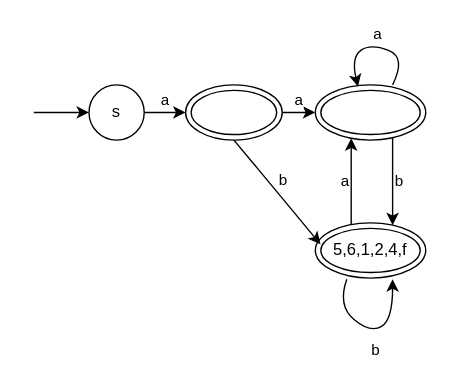
The diagram is 450 pixels wide and 384 high, and some of its shapes have lost their labels. The centre of each missing label's shape, as x and y in pixels:
"1,2,4,f" belongs at point 233,111.
"3,6,1,2,4,f" belongs at point 370,111.
